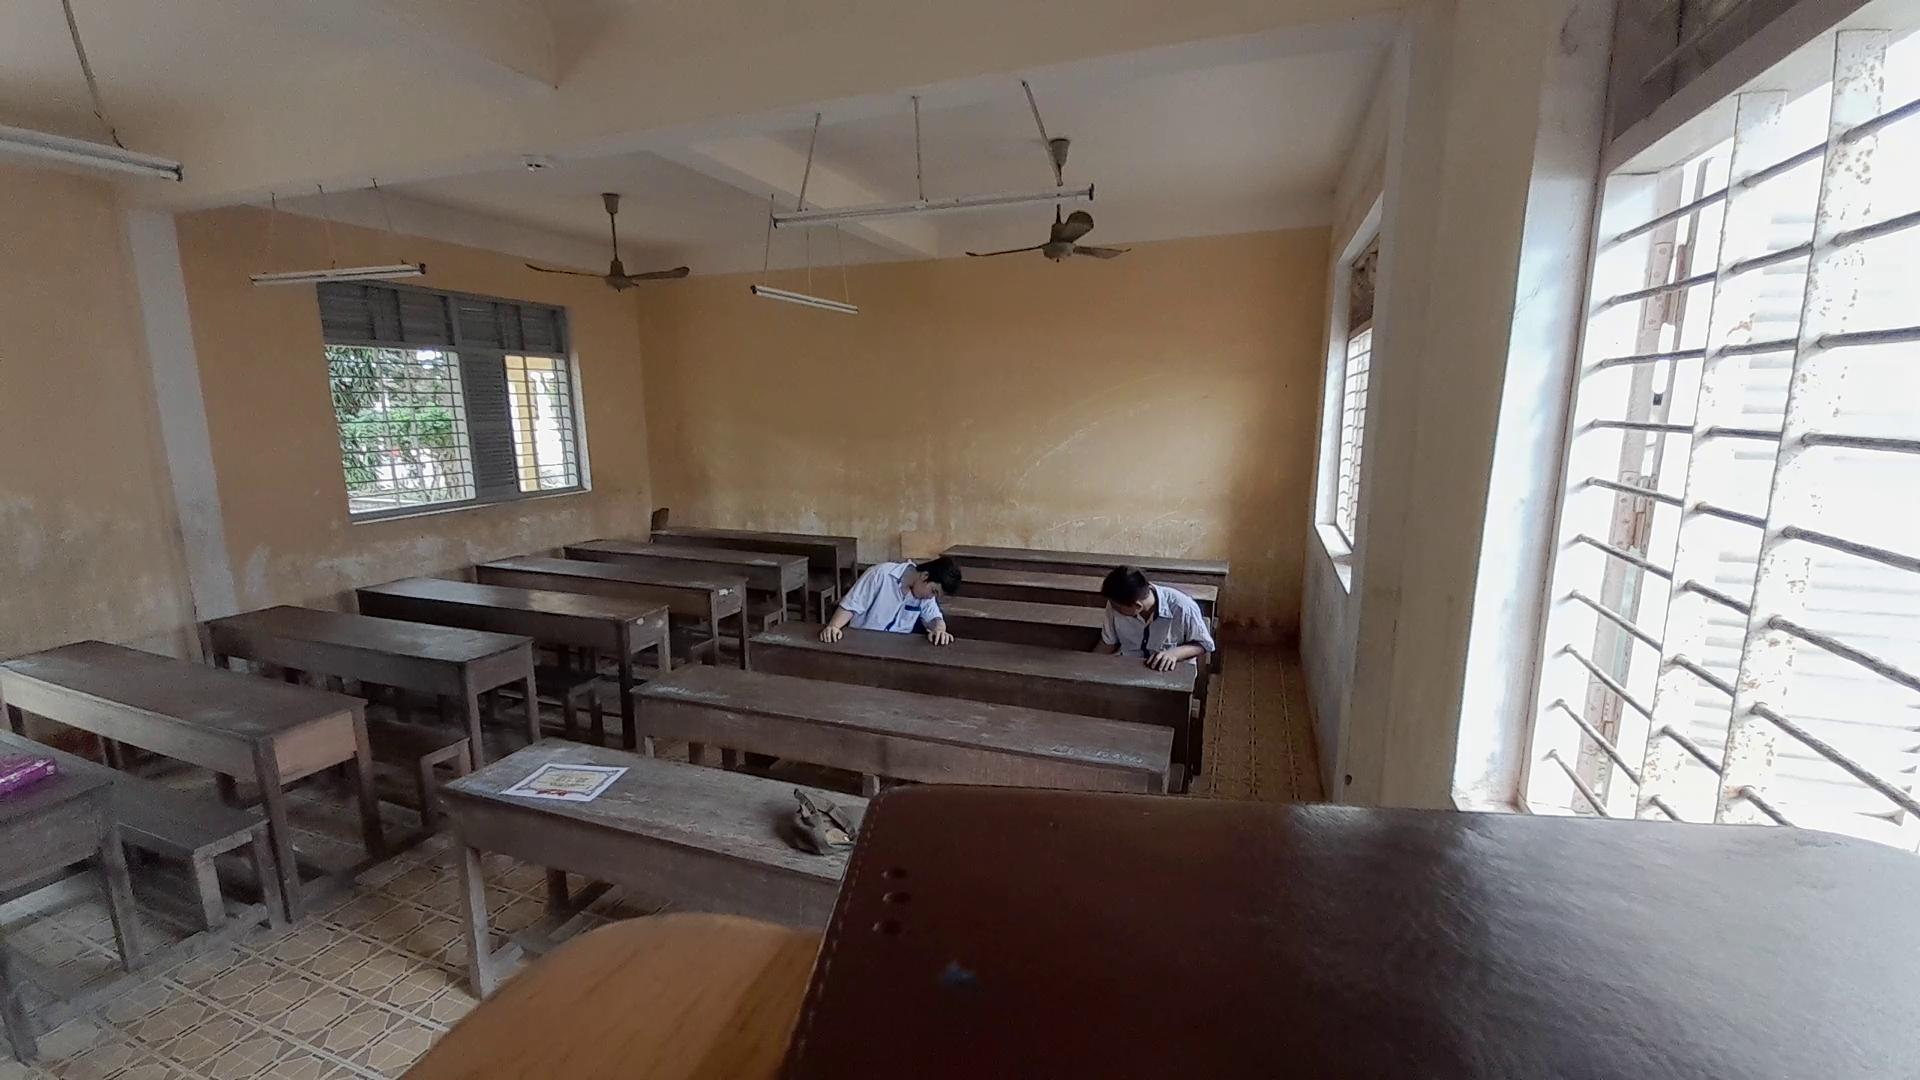Bend Over The Desk: (1087, 547, 1180, 630), (884, 541, 976, 624)
Hand Under Table: (1085, 603, 1118, 665)
